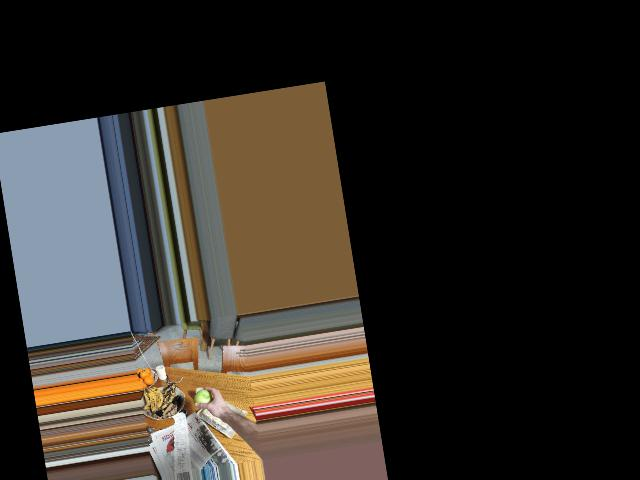apple: (191, 385, 218, 412)
